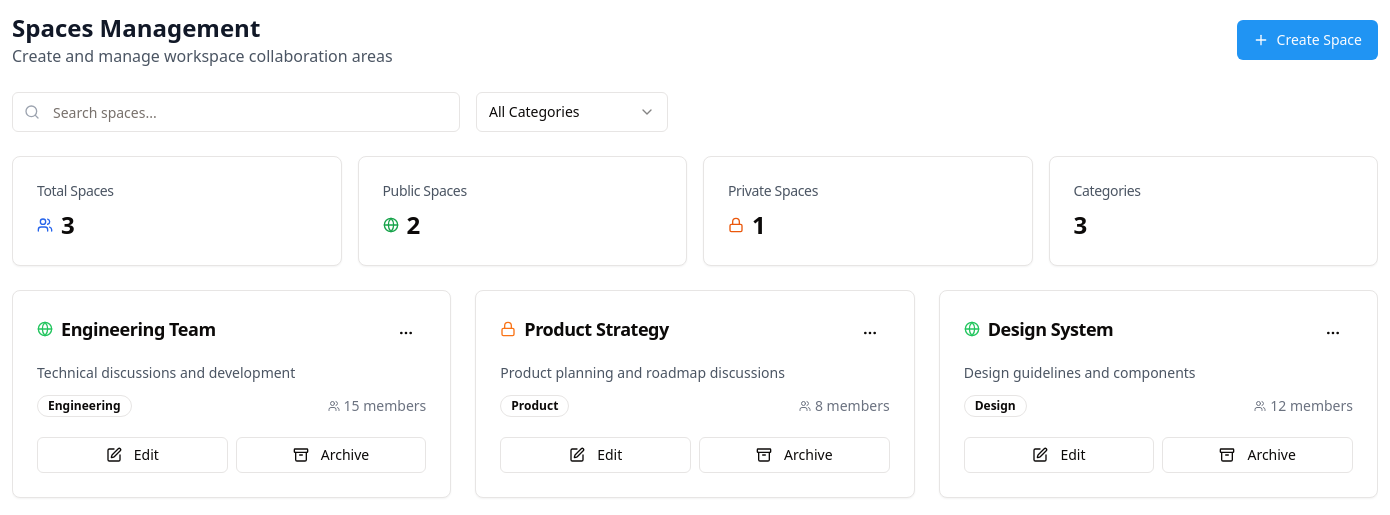
Scenario: GroupsManagement › Search and Filtering › should show empty state when no spaces match filters
Type "NonexistentSpace" into the field with placeholder "Search spaces..." at {"x": 236, "y": 112}, box [12,92,460,132]
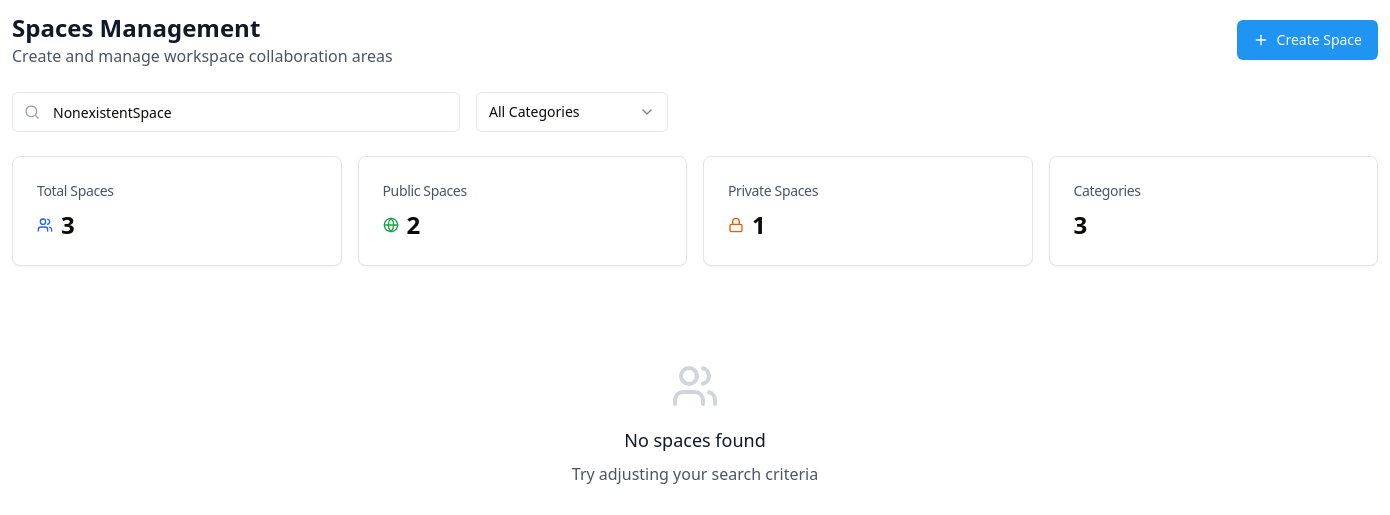
expect the heading "No spaces found" is shown: met, box [624,428,766,452]
expect the text "Try adjusting your search criteria" is shown: met, box [572,463,818,485]
